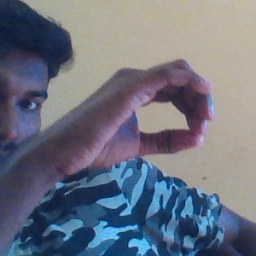O: (60, 57, 217, 174)
